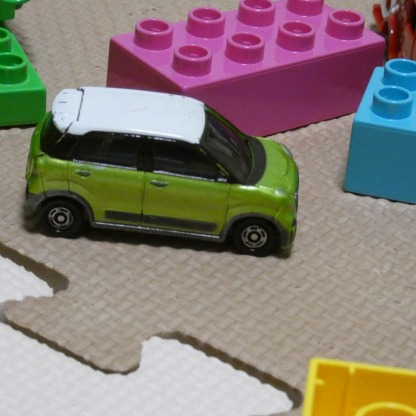car: (25, 88, 301, 260)
